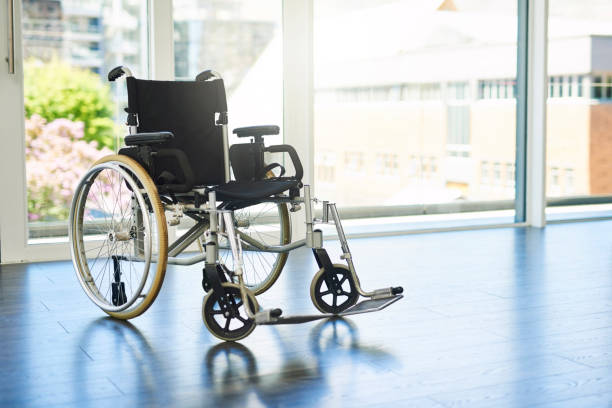wheel_chair: (62, 59, 416, 343)
